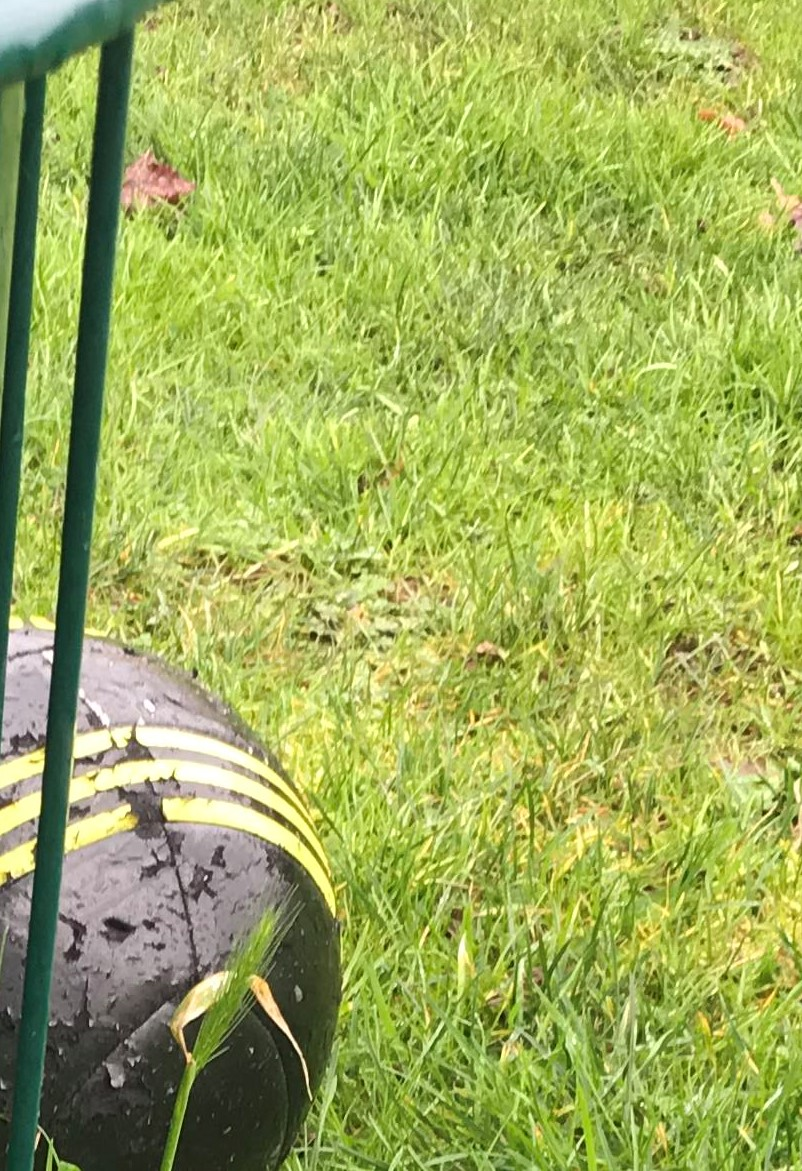football: (8, 618, 333, 1158)
